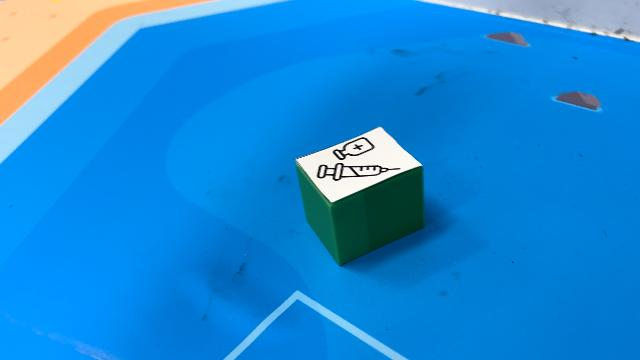syringe: (294, 126, 426, 266)
